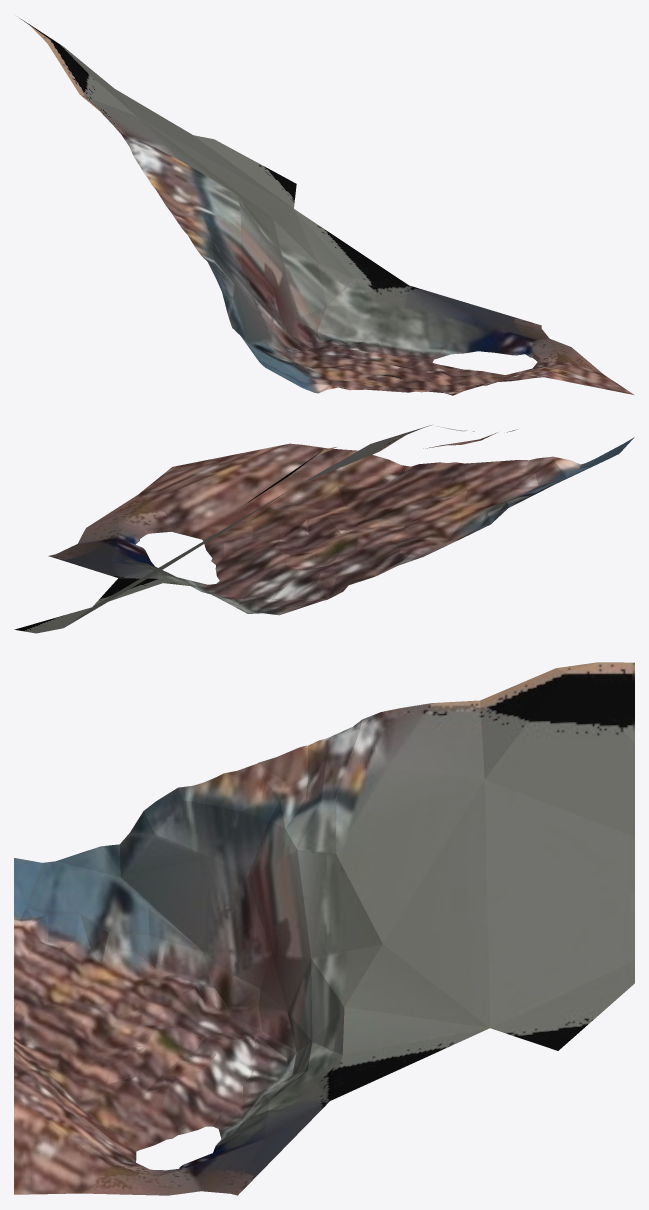
3 renders of one model, top to bottom at view 1: azimuth 30°, elevation 25°; view 2: azimuth 150°, elevation 25°; view 3: azimuth 270°, elevation 25°, orthographic. The views are drawn at different scales.
Bounding box in the file's own units: 2.65 × 1.94 × 3.35.
Materials: 2 (2 with a texture image).
